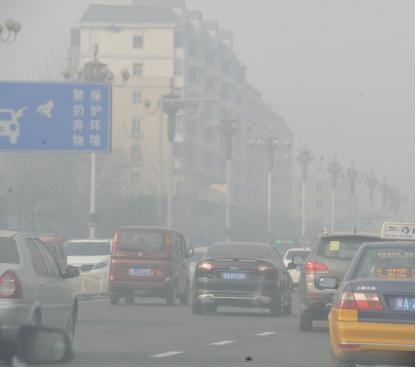car: (317, 221, 416, 367), (291, 226, 398, 332), (1, 230, 80, 368), (190, 241, 297, 317), (108, 225, 195, 307), (60, 237, 124, 302), (177, 244, 233, 304), (277, 247, 323, 294)
